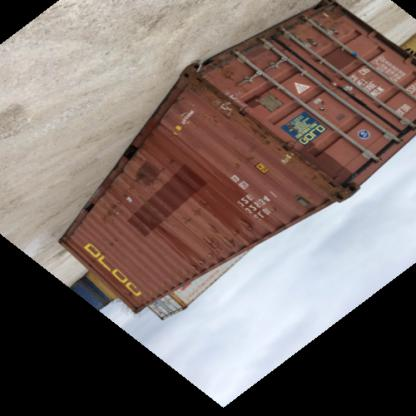Damage: (99, 160, 163, 224), (192, 212, 260, 272), (184, 63, 247, 125), (233, 123, 301, 162), (304, 164, 340, 204), (100, 236, 124, 258)
